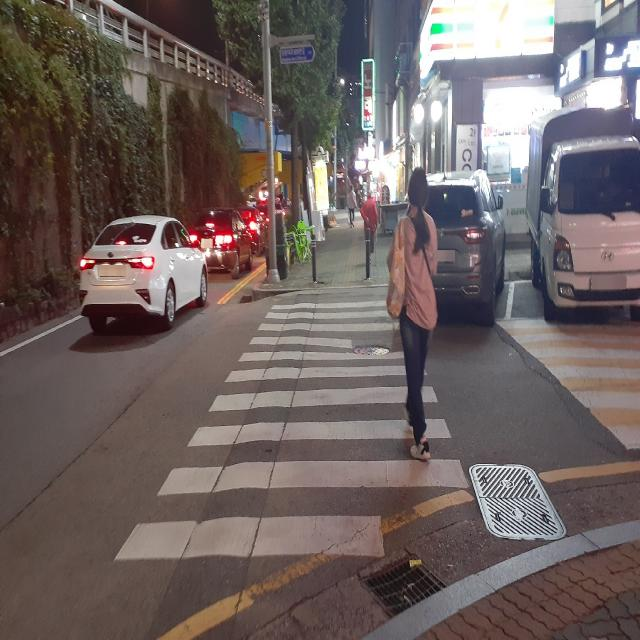횡단보도: (111, 298, 471, 564)
